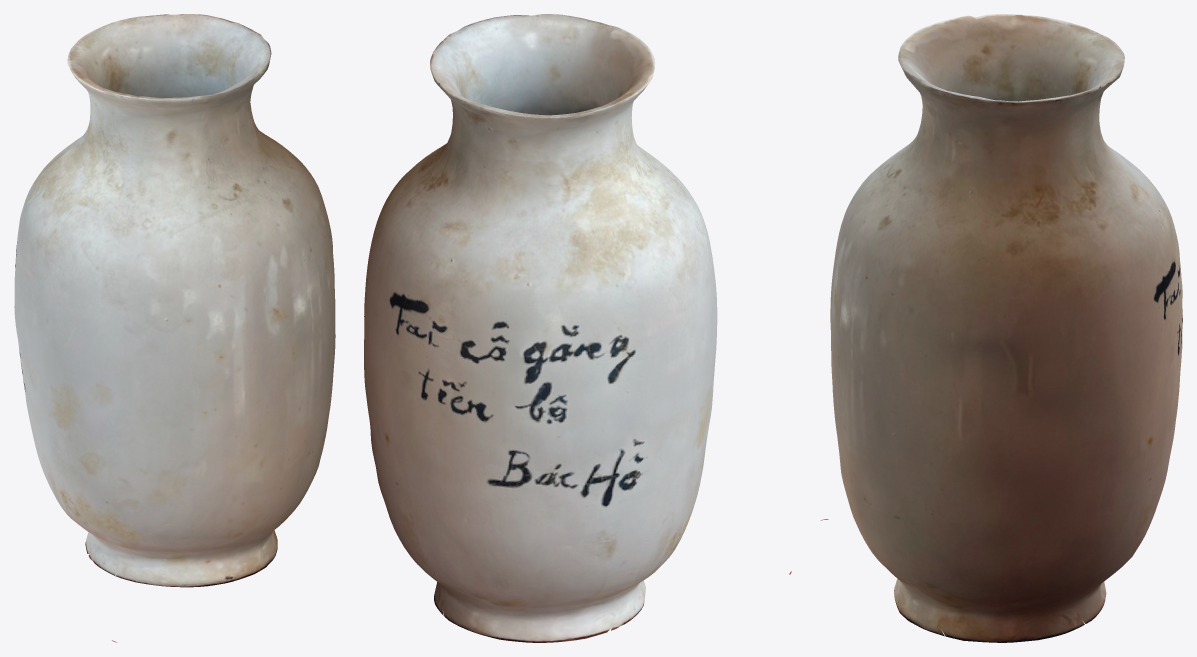
File: -_uniform__30__4k.glb
3 renders of one model, left to right at view 1: azimuth 30°, elevation 25°; view 2: azimuth 150°, elevation 25°; view 3: azimuth 270°, elevation 25°, orthographic. The views are drawn at different scales.
Visible parts, largest first — view 1: Object_4; view 2: Object_4; view 3: Object_4.
Part boxes in pixels (bbox=[...]): Object_4: bbox=[14, 14, 335, 642]; Object_4: bbox=[364, 14, 791, 642]; Object_4: bbox=[820, 14, 1182, 642].
Bounding box in the file's own units: 0.3361 × 0.5665 × 0.3445.
1 material, 1 textured.
